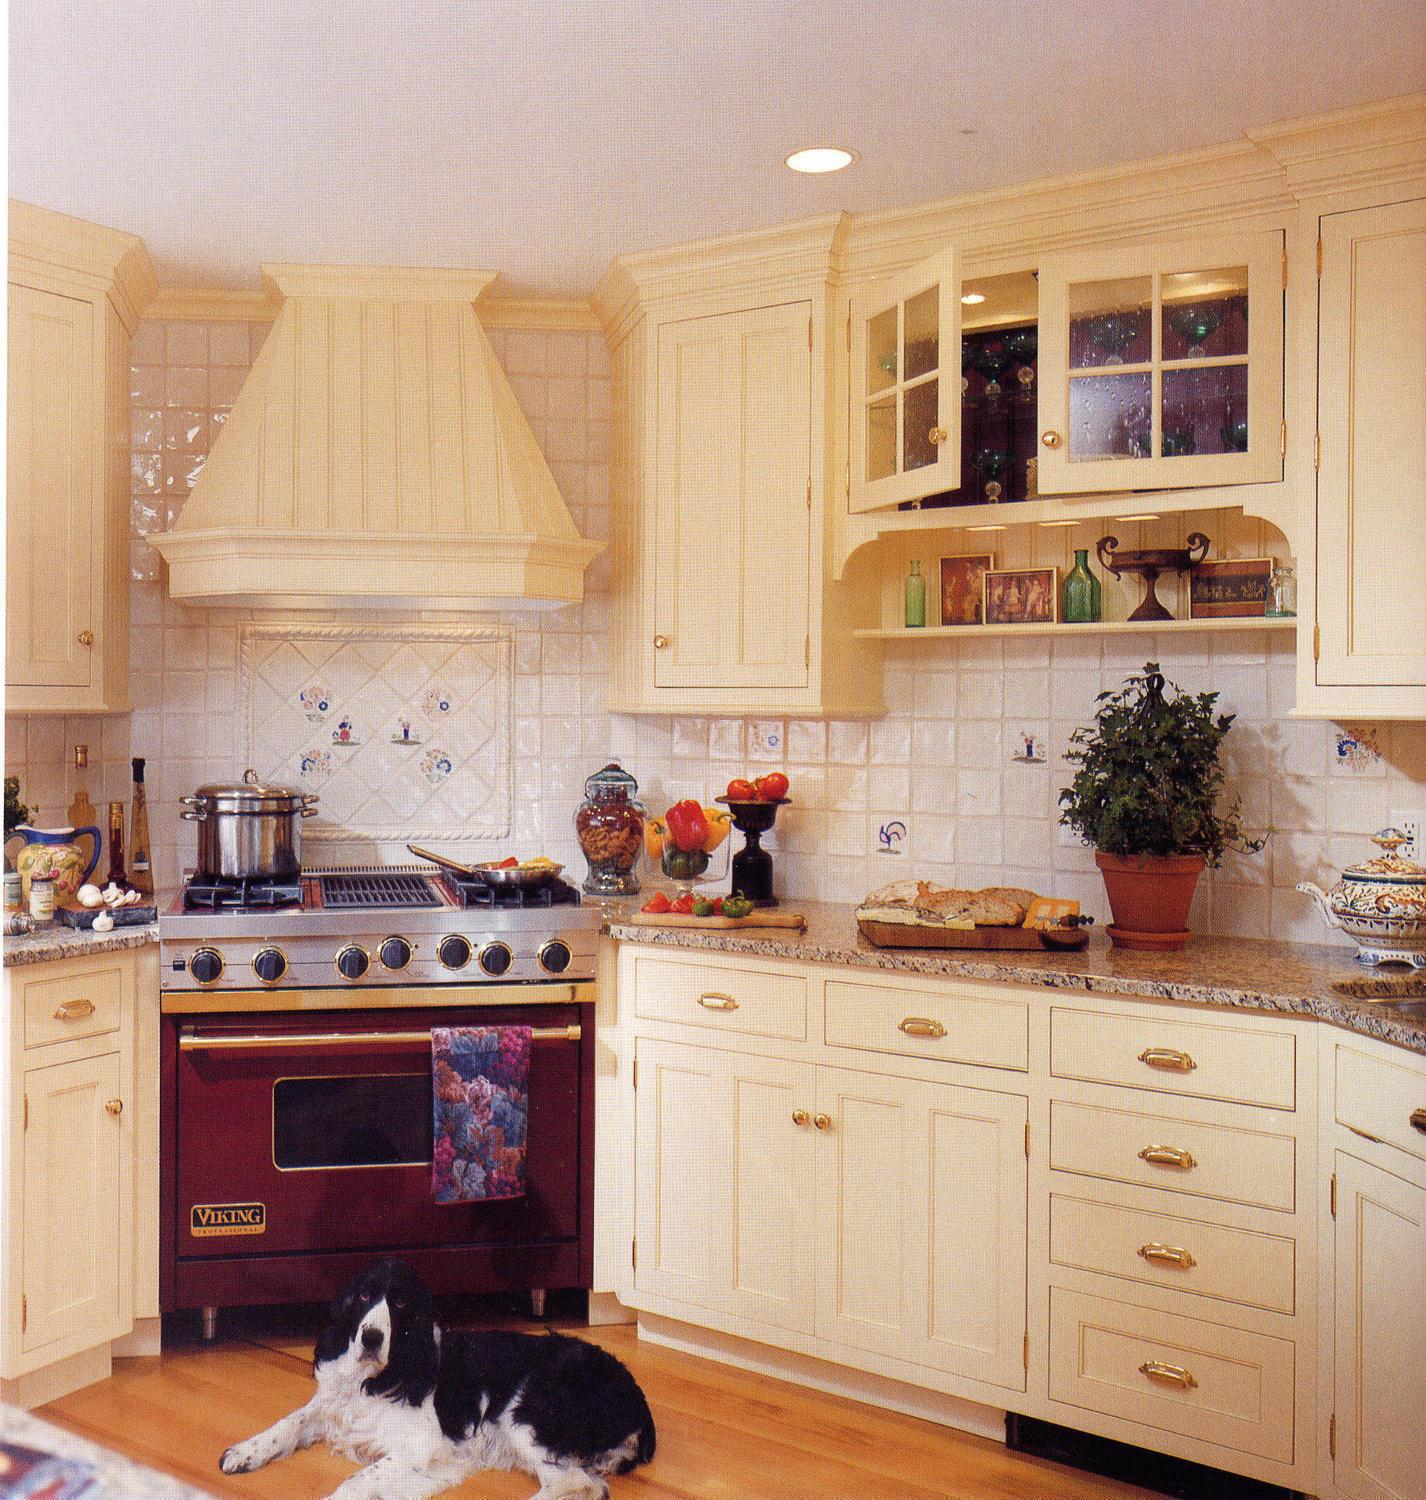Electrodomestico: (174, 923, 588, 1288)
Matera: (1056, 674, 1261, 959)
Otro Obstaculo: (249, 1248, 665, 1491)
